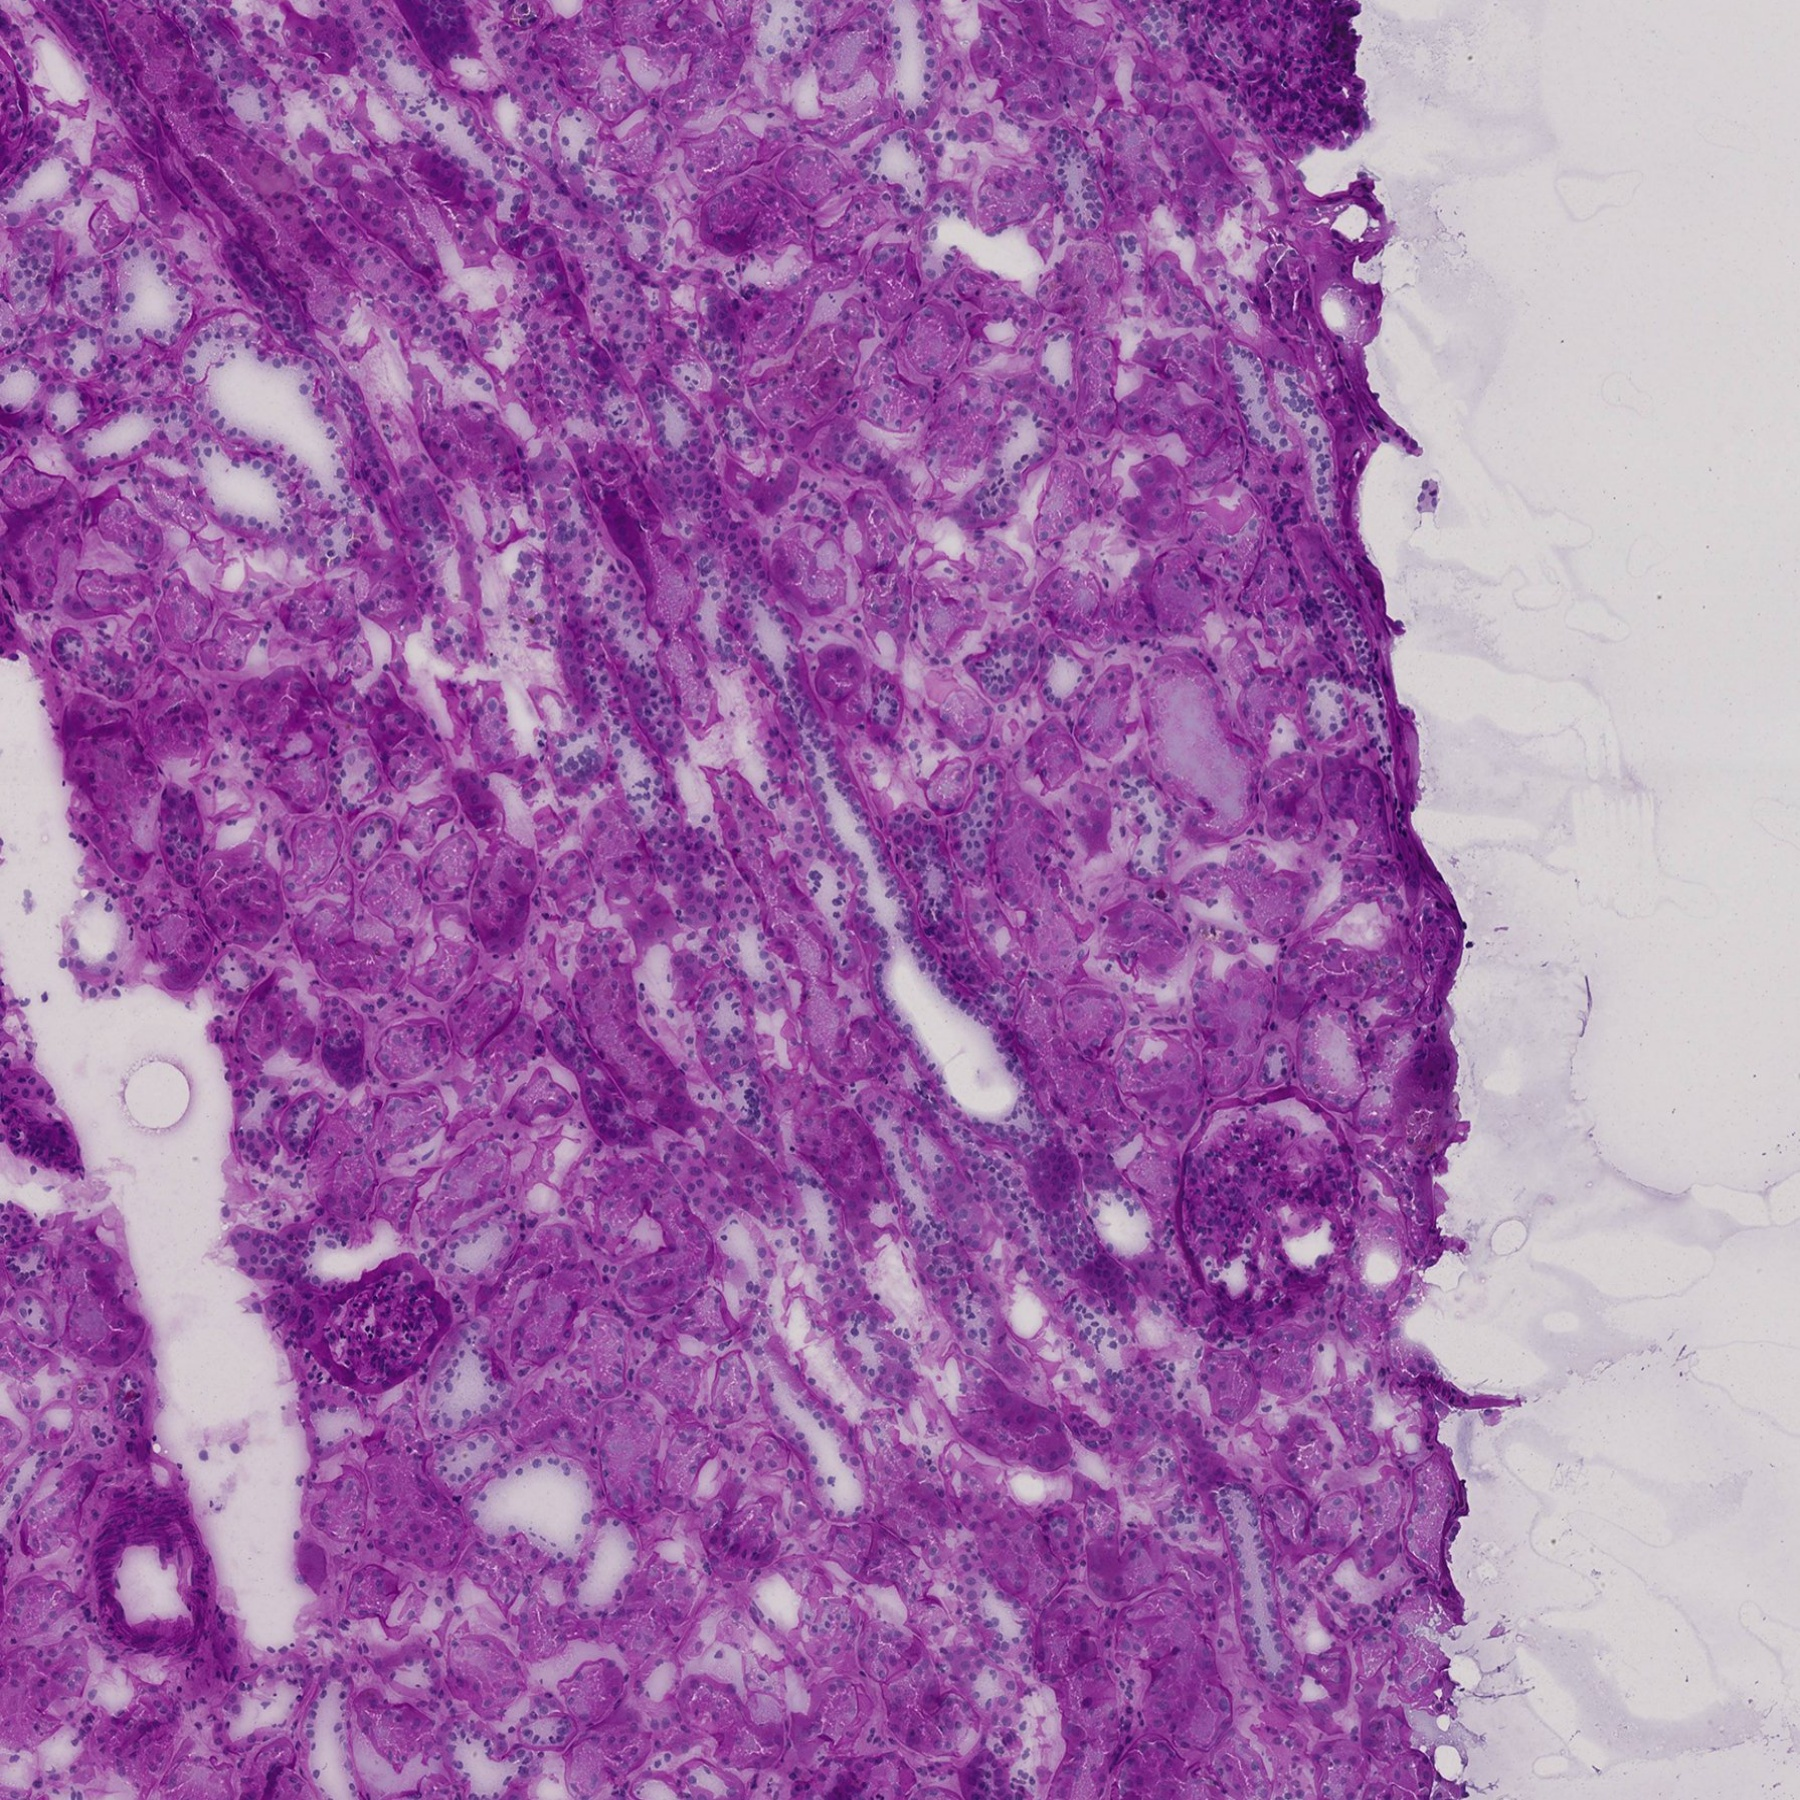Glomeruli: (1170, 1088, 1363, 1315), (313, 1251, 457, 1396)
